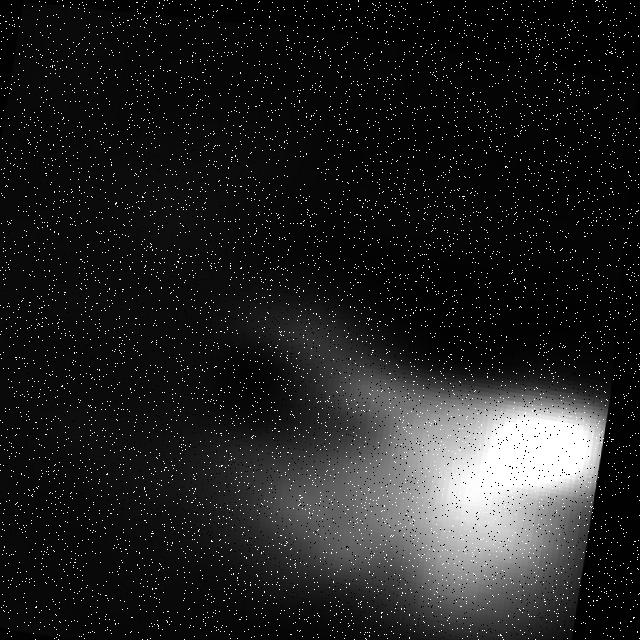person: (81, 275, 622, 640)
